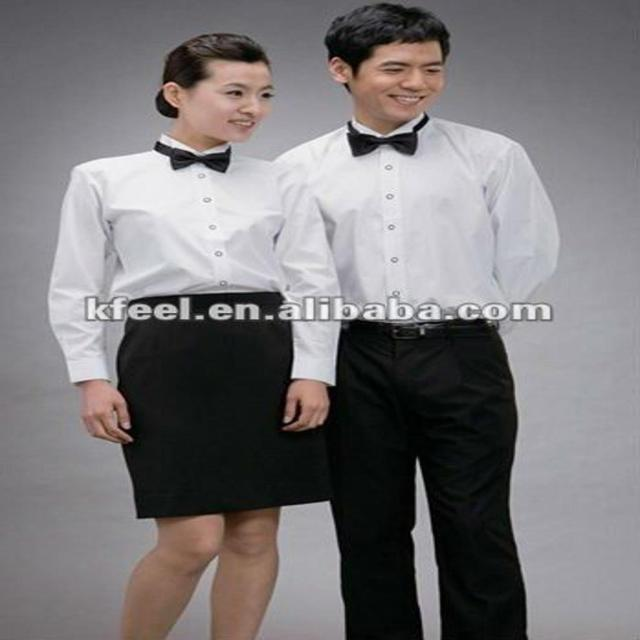Face: (343, 31, 442, 133), (181, 58, 277, 148)
